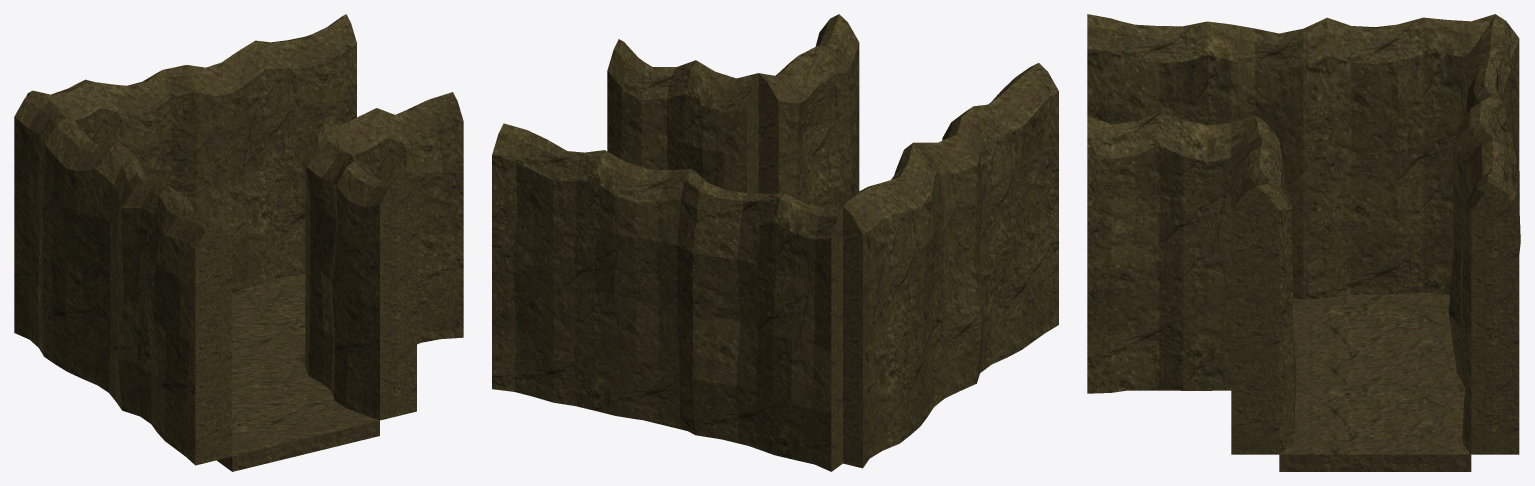
Rendered from cave_corner_01_limestone.glb.
3 renders of one model, left to right at view 1: azimuth 30°, elevation 25°; view 2: azimuth 150°, elevation 25°; view 3: azimuth 270°, elevation 25°, orthographic. The views are drawn at different scales.
Visible parts, largest first — view 1: cave_corner_01_limestone; view 2: cave_corner_01_limestone; view 3: cave_corner_01_limestone.
Boxes of the visible parts, x1,y1,x2,y2 form: cave_corner_01_limestone: [14, 14, 463, 471]; cave_corner_01_limestone: [492, 14, 1058, 471]; cave_corner_01_limestone: [1087, 14, 1520, 471].
Size of the model in its own units: 4.58 by 3.3 by 4.51.
2 materials, 2 textured.
